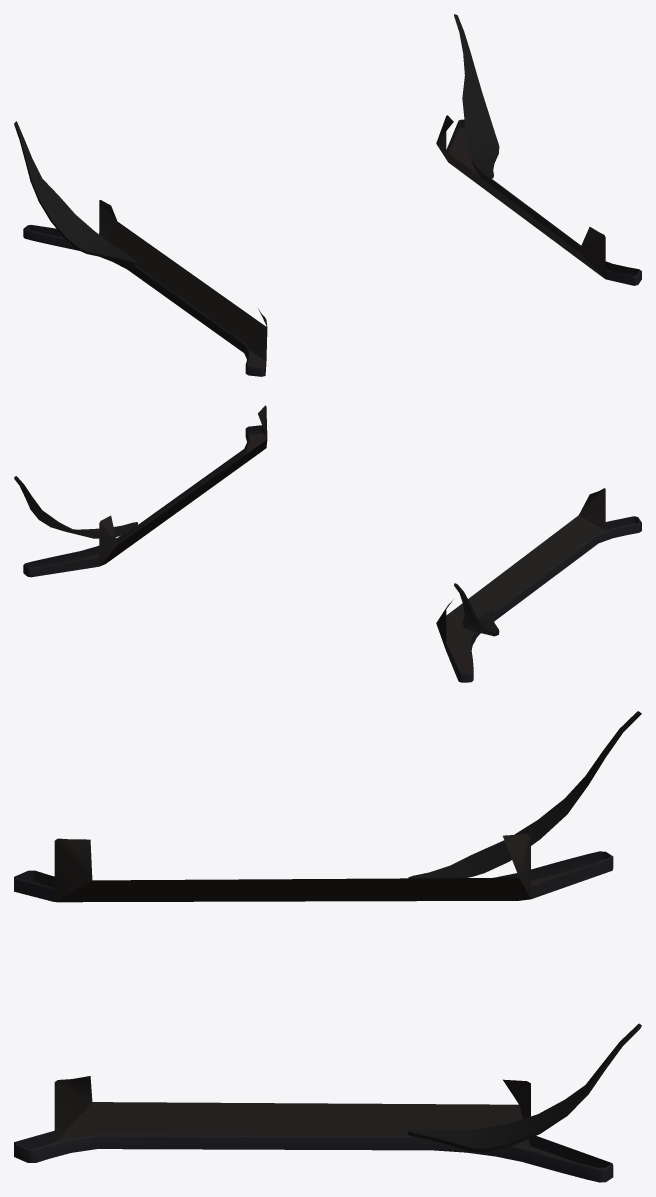
File: RWB_993_Skirt_01_Trim.fbx
The picture shows the model from 3 angles, top to bottom: view 1: azimuth 30°, elevation 25°; view 2: azimuth 150°, elevation 25°; view 3: azimuth 270°, elevation 25°; orthographic projection. The views are drawn at different scales.
Parts seen in each view (by area): view 1: RWB_993_Skirt_01_Trim; view 2: RWB_993_Skirt_01_Trim; view 3: RWB_993_Skirt_01_Trim.
Part boxes in pixels (x1,y1,x2,y2): RWB_993_Skirt_01_Trim: (14, 14, 641, 376); RWB_993_Skirt_01_Trim: (14, 405, 641, 682); RWB_993_Skirt_01_Trim: (14, 711, 641, 1182).
Bounding box in the file's own units: 203 × 46.02 × 168.
